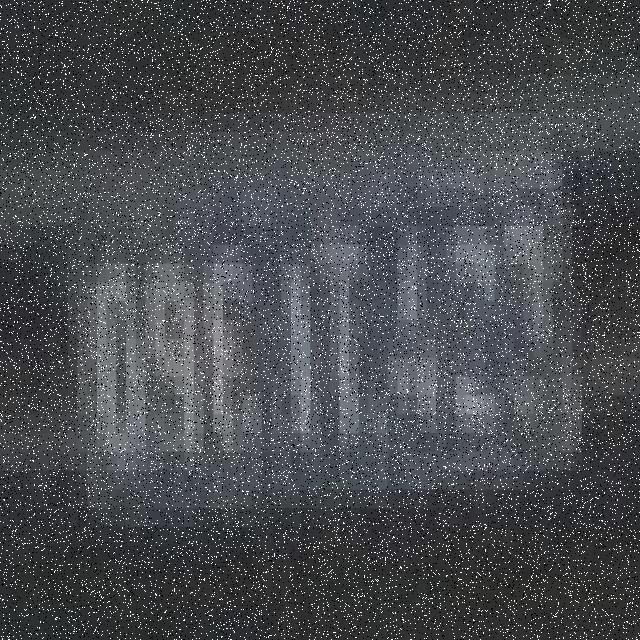LicensePlate: (55, 149, 610, 518)
